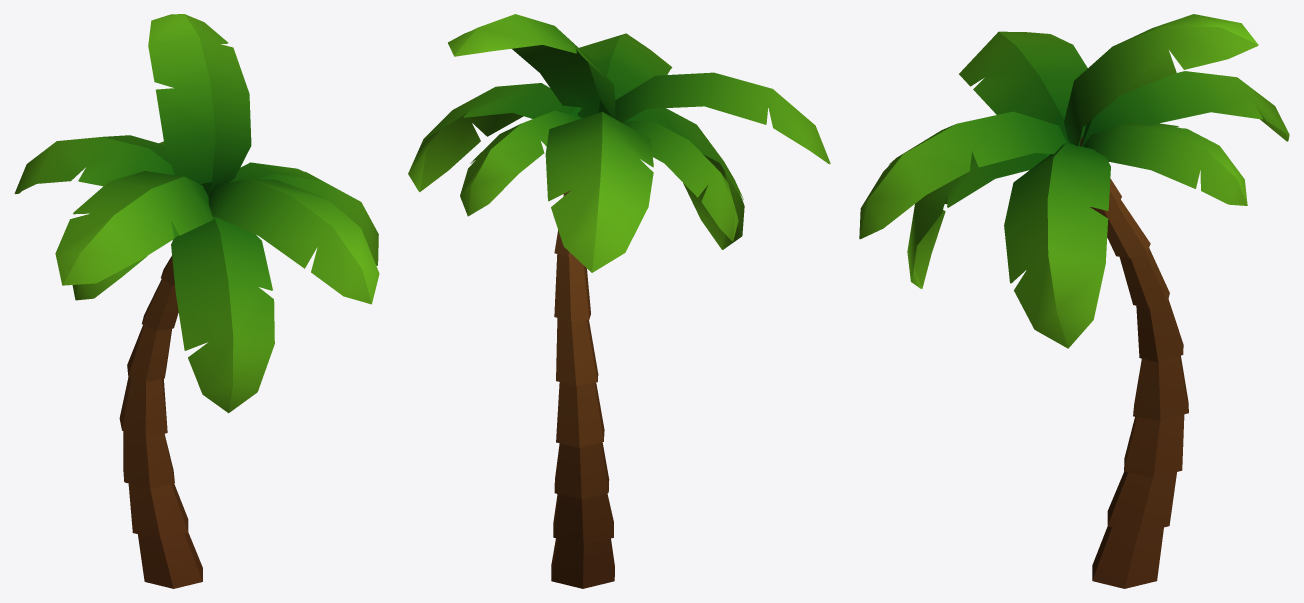
Rendered from palm_tree.fbx.
The picture shows the model from 3 angles, left to right: view 1: azimuth 30°, elevation 25°; view 2: azimuth 150°, elevation 25°; view 3: azimuth 270°, elevation 25°; orthographic projection. The views are drawn at different scales.
Parts seen in each view (by area): view 1: palm_tree; view 2: palm_tree; view 3: palm_tree.
Boxes of the visible parts, x1,y1,x2,y2 form: palm_tree: [14, 14, 379, 588]; palm_tree: [408, 14, 830, 588]; palm_tree: [859, 14, 1289, 588].
Bounding box in the file's own units: 5.01 × 7.19 × 4.87.
